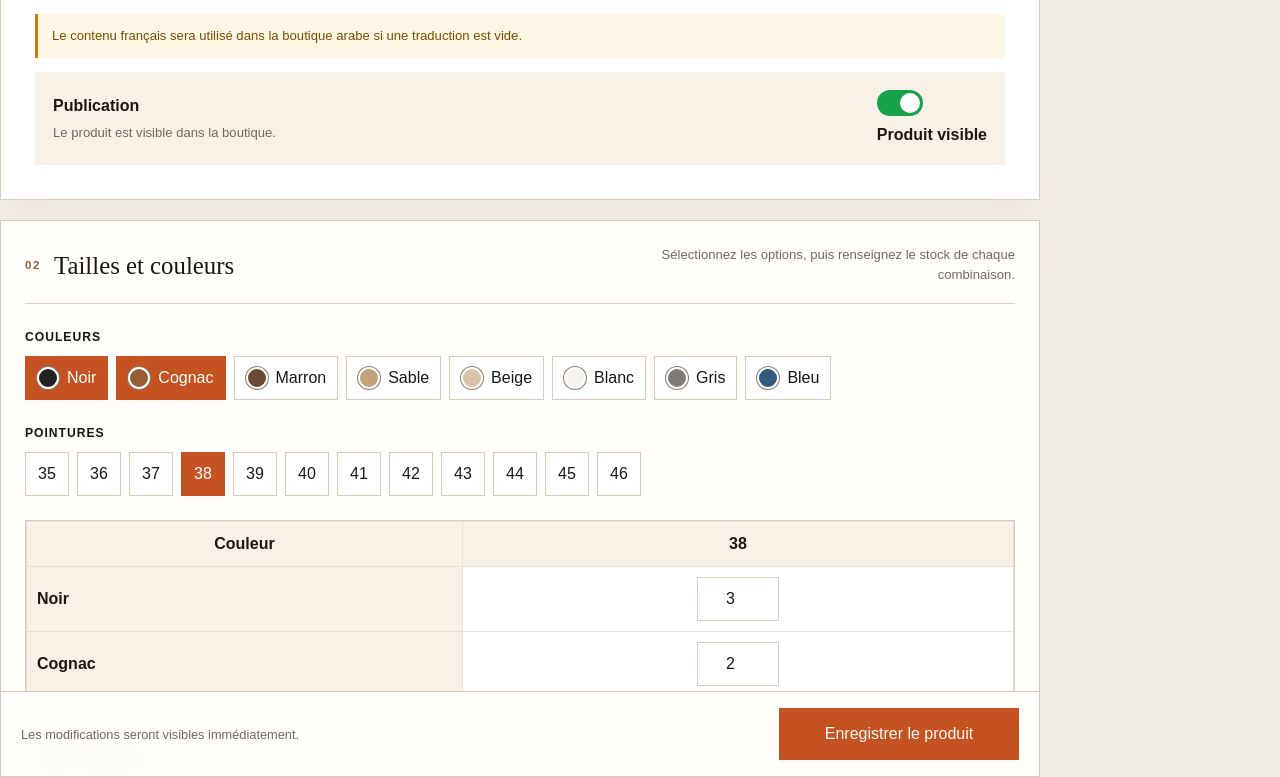
Test: VariantEditor through ProductForm › repasse en brouillon quand le retrait d’une couleur supprime la dernière image
(page scrolled)
Click the checkbox labelled "Noir". click: (67, 378)
box: [25,356,108,400]
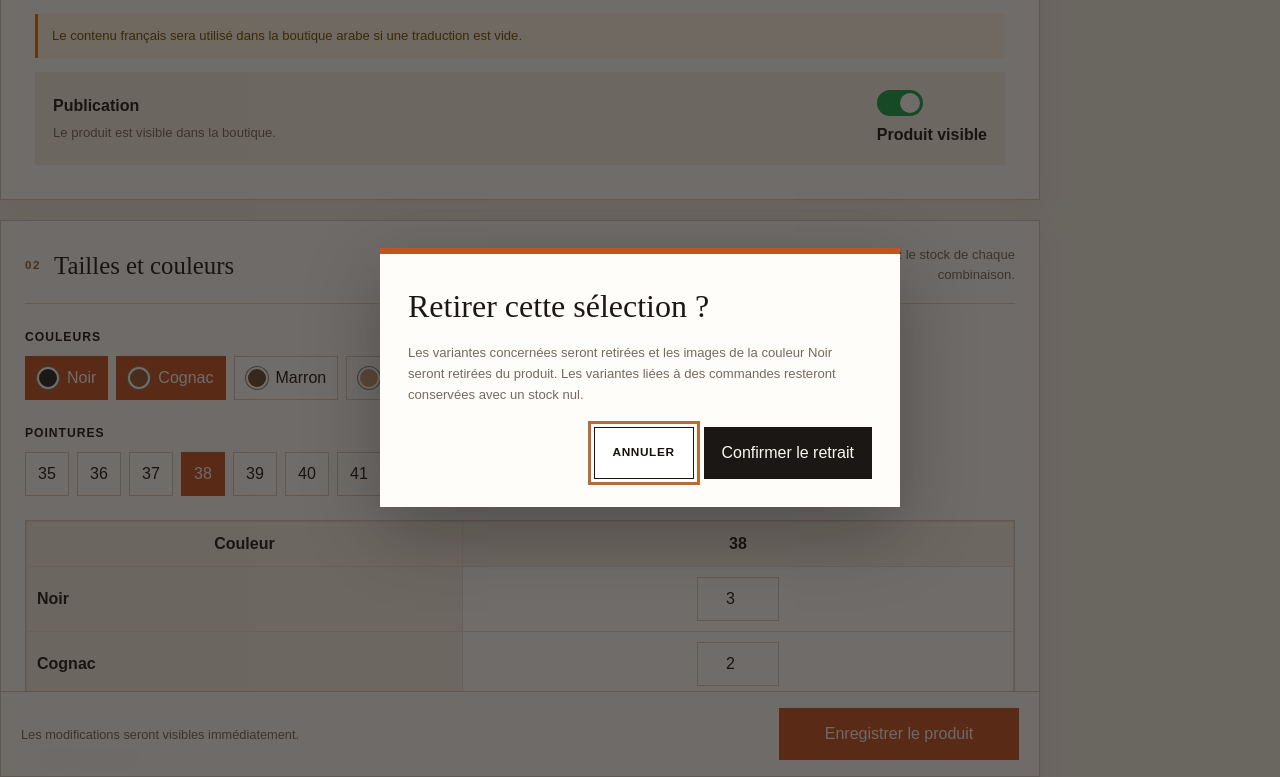
Click the button "Confirmer le retrait". click: (788, 452)
box: [704,426,872,478]
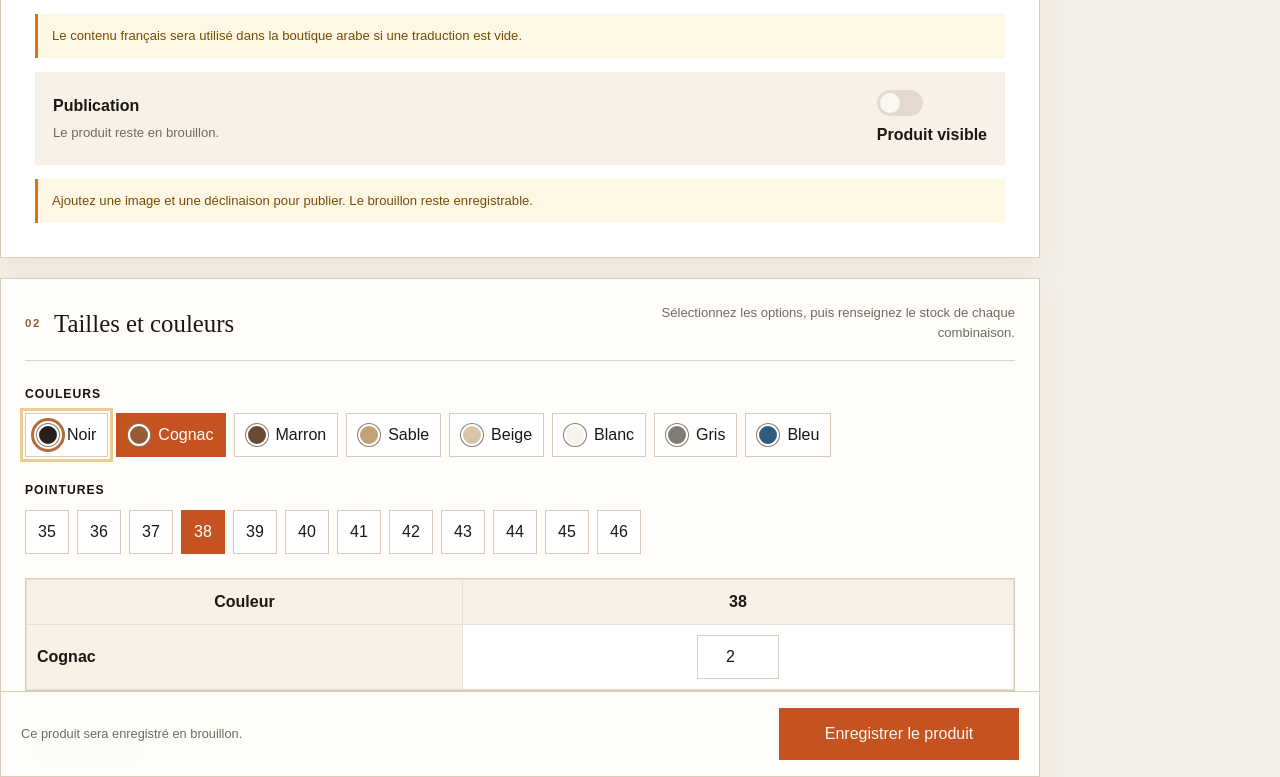
Now the checkbox labelled "Produit visible" is not checked, box [877,90,987,147]
